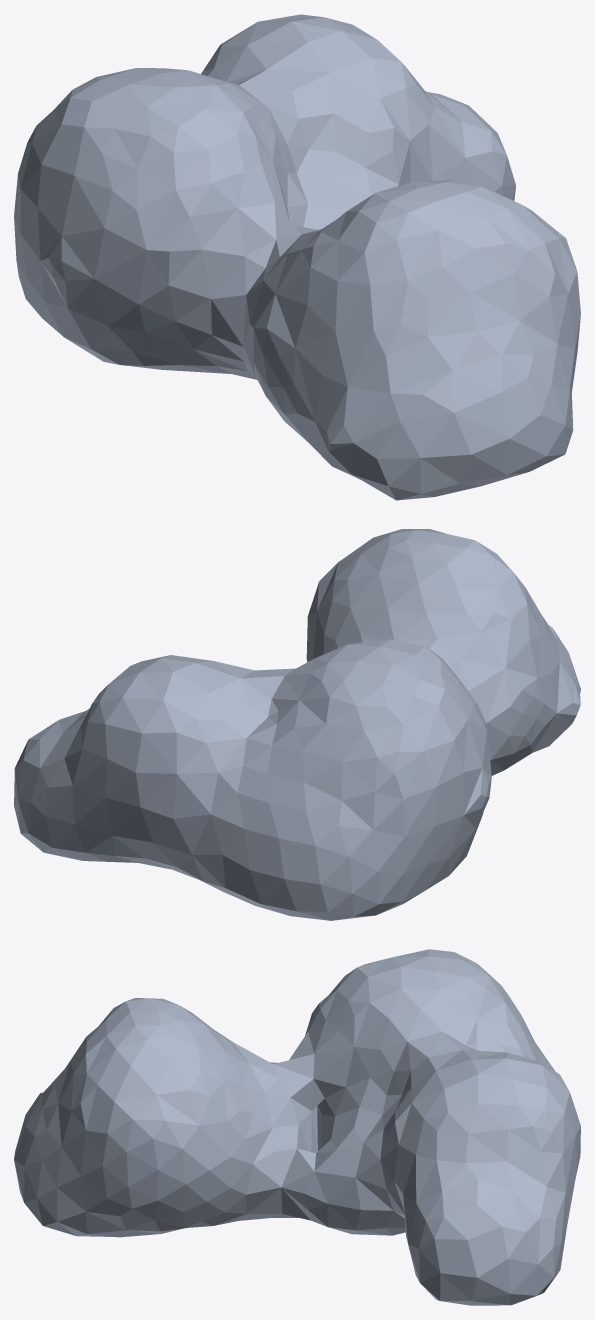
File: MinecartMayhemRubble.glb
3 renders of one model, top to bottom at view 1: azimuth 30°, elevation 25°; view 2: azimuth 150°, elevation 25°; view 3: azimuth 270°, elevation 25°, orthographic. The views are drawn at different scales.
Visible parts, largest first — view 1: Rock; view 2: Rock; view 3: Rock.
Part boxes in pixels (x1,y1,x2,y2): Rock: (14,14,580,500); Rock: (14,529,580,920); Rock: (14,949,580,1305).
Bounding box in the file's own units: 8.93 × 4.43 × 10.93.
